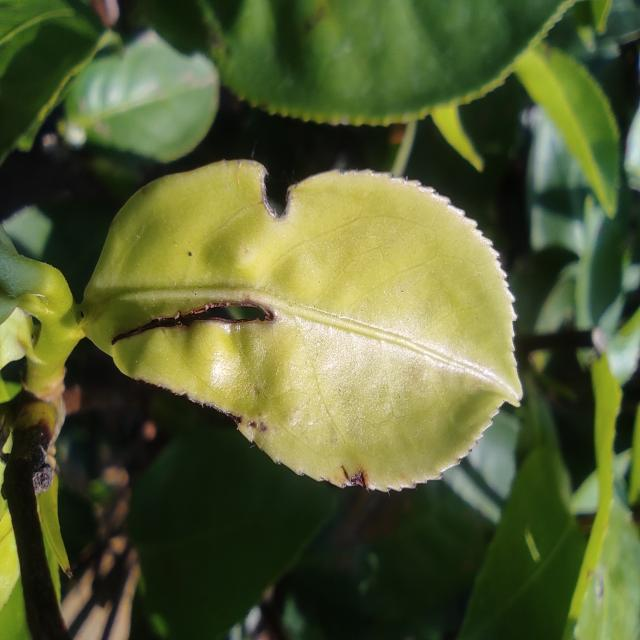Category C 4-7 days: (70, 123, 546, 521)
